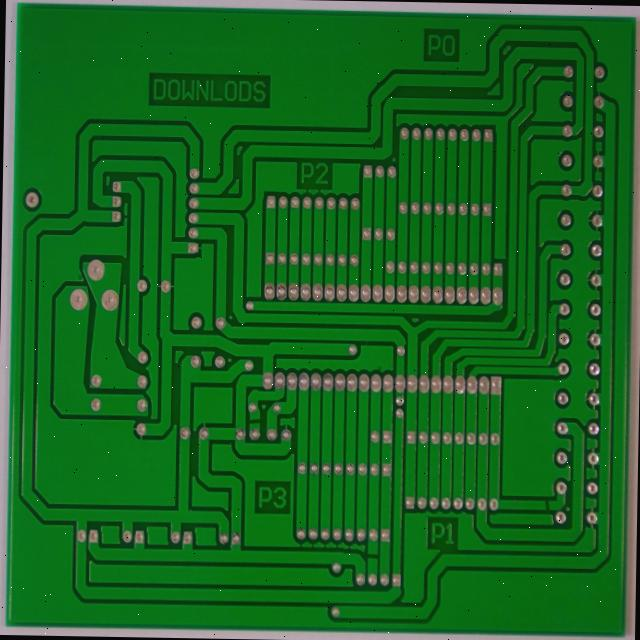open_circuit: (343, 537, 360, 553), (534, 480, 548, 496), (217, 388, 233, 401)
